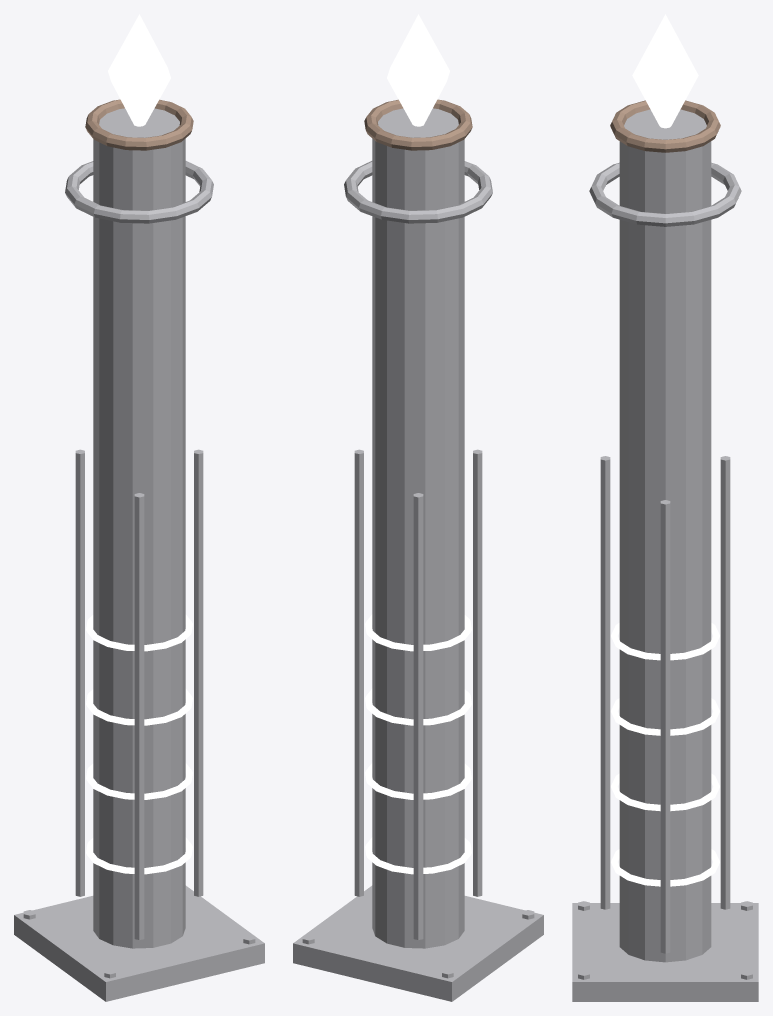
File: flare_stack_legendary.glb
3 views of the same model, side by side, from view 1: azimuth 30°, elevation 25°; view 2: azimuth 150°, elevation 25°; view 3: azimuth 270°, elevation 25° (orthographic).
Parts seen in each view (by area): view 1: flare_stack, flame; view 2: flare_stack, flame; view 3: flare_stack, flame.
Part boxes in pixels (box(x1,y1,x2,y2)): flare_stack: box(14, 99, 264, 1001); flame: box(108, 14, 170, 126); flare_stack: box(293, 99, 543, 1001); flame: box(387, 14, 449, 126); flare_stack: box(572, 100, 758, 1001); flame: box(632, 14, 698, 128).
Size of the model in its own units: 1.34 by 7.55 by 1.34.
